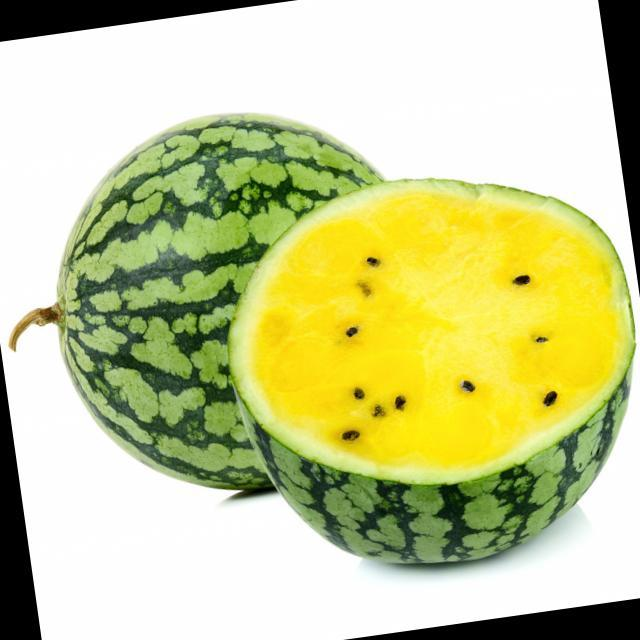WATERMELON: (211, 146, 640, 593), (39, 88, 436, 527)
